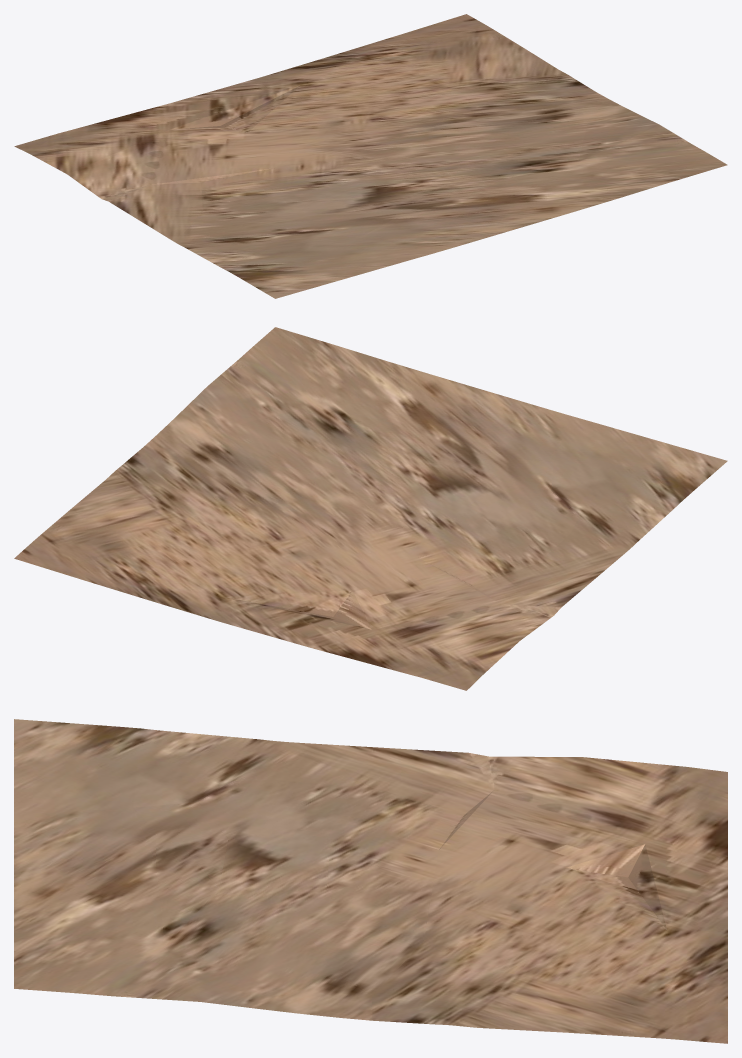
3 renders of one model, top to bottom at view 1: azimuth 30°, elevation 25°; view 2: azimuth 150°, elevation 25°; view 3: azimuth 270°, elevation 25°, orthographic. The views are drawn at different scales.
Bounding box in the file's own units: 2.09 × 0.2742 × 2.09.
Materials: 2 (2 with a texture image).
